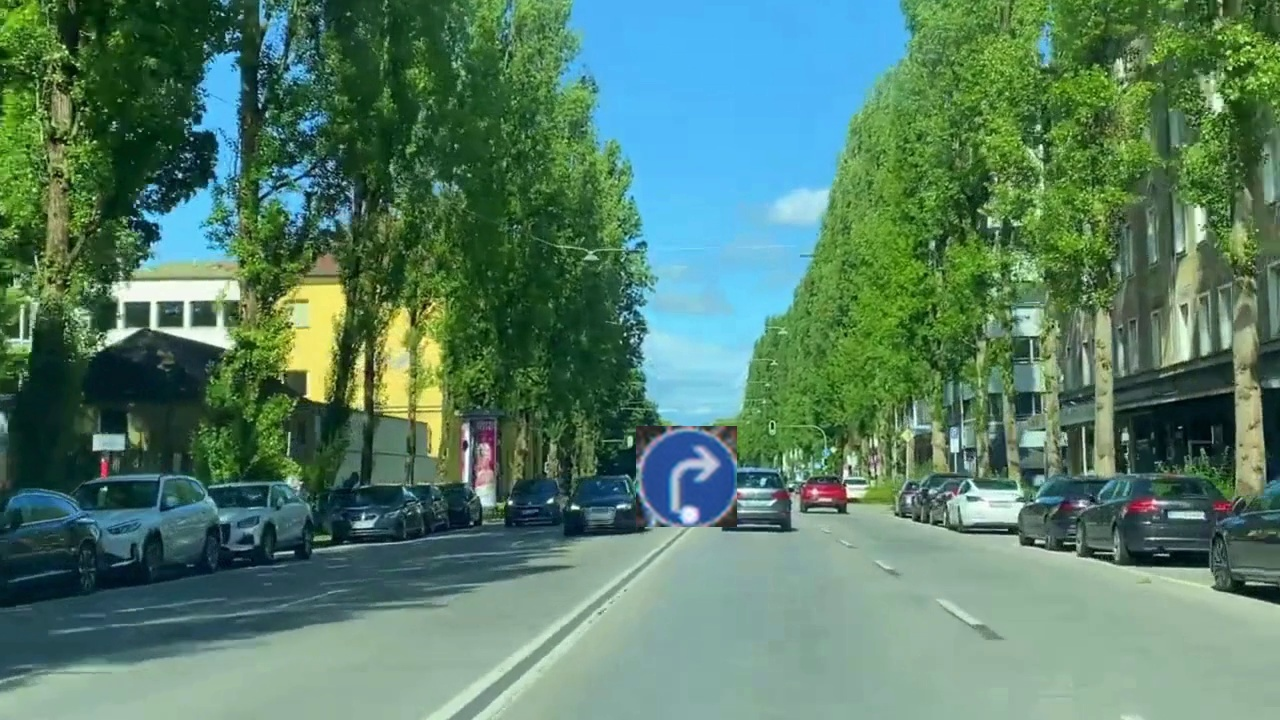Turn right: (636, 426, 737, 527)
